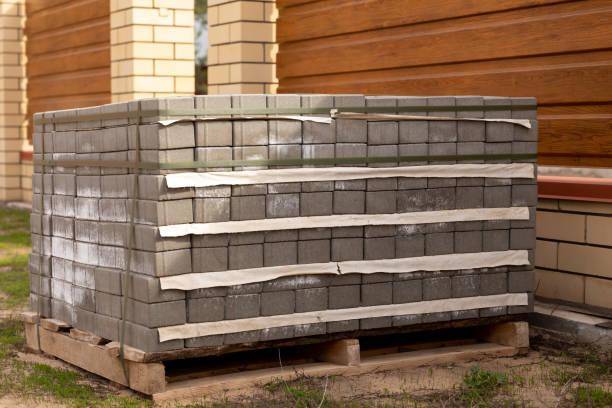Bricks: (118, 319, 184, 351), (121, 297, 185, 328), (122, 273, 185, 303), (127, 248, 192, 277), (139, 122, 194, 150), (132, 225, 190, 251), (139, 174, 193, 201), (139, 149, 194, 175), (140, 96, 195, 122), (187, 297, 226, 323), (99, 199, 139, 224), (195, 121, 233, 147), (99, 221, 132, 250), (224, 294, 260, 319), (100, 175, 139, 198), (231, 195, 266, 220), (231, 95, 267, 119), (192, 248, 228, 272), (335, 119, 368, 145), (196, 148, 233, 171), (233, 122, 268, 146), (195, 95, 231, 118), (265, 194, 301, 217), (229, 245, 265, 268), (269, 121, 303, 145), (264, 242, 298, 266), (233, 146, 268, 169), (302, 121, 337, 144), (299, 239, 331, 264), (262, 291, 295, 315), (296, 288, 329, 312), (163, 199, 194, 224), (195, 199, 230, 221), (329, 285, 361, 309), (302, 144, 335, 167), (95, 269, 122, 296), (95, 292, 121, 320), (99, 246, 128, 271), (426, 187, 456, 211), (269, 147, 303, 168), (267, 95, 301, 116), (301, 192, 332, 215), (334, 191, 365, 214), (336, 143, 367, 166), (331, 238, 363, 260), (72, 307, 97, 335), (425, 232, 454, 256), (302, 96, 335, 117), (451, 275, 481, 298), (399, 144, 429, 167), (362, 283, 393, 305), (366, 190, 397, 212), (367, 145, 398, 167), (367, 123, 398, 145), (137, 201, 164, 226), (364, 238, 396, 259), (398, 189, 427, 212), (483, 96, 512, 119), (427, 96, 457, 118), (398, 122, 429, 143), (74, 197, 100, 222), (73, 263, 97, 290), (51, 278, 74, 306), (423, 277, 451, 300), (75, 130, 103, 153), (396, 235, 425, 257), (428, 121, 457, 143), (484, 142, 513, 164), (455, 97, 485, 118), (397, 96, 427, 117), (51, 216, 75, 242), (51, 257, 74, 284), (73, 286, 96, 313), (100, 152, 127, 175), (455, 231, 483, 253), (394, 281, 422, 303), (483, 186, 511, 208), (456, 187, 484, 209), (429, 143, 457, 165), (74, 241, 98, 266), (102, 103, 128, 126), (457, 121, 486, 141), (52, 237, 75, 262), (75, 220, 100, 243), (510, 207, 536, 229), (511, 96, 537, 118), (508, 292, 535, 313), (481, 274, 508, 295), (457, 143, 485, 163), (104, 128, 128, 151), (512, 185, 537, 207), (509, 271, 535, 292), (76, 108, 102, 129), (487, 122, 515, 141), (76, 153, 100, 175), (366, 97, 397, 114), (76, 177, 101, 198), (52, 300, 73, 325), (97, 316, 118, 341), (224, 329, 259, 344), (260, 326, 295, 341), (509, 250, 534, 271), (483, 231, 509, 251), (512, 142, 538, 162), (191, 233, 228, 247), (52, 194, 74, 217), (514, 120, 538, 141), (512, 164, 537, 184), (185, 335, 223, 348), (52, 175, 75, 196), (53, 154, 76, 175), (53, 132, 76, 153), (335, 96, 365, 112), (295, 275, 329, 289), (511, 229, 536, 248), (31, 274, 50, 297), (460, 266, 508, 275), (262, 278, 295, 291), (55, 111, 76, 131), (193, 186, 231, 197), (327, 320, 359, 333), (364, 225, 396, 238), (366, 178, 398, 191), (230, 232, 264, 244), (264, 230, 298, 242), (295, 323, 326, 336), (227, 283, 263, 294), (393, 314, 423, 327), (360, 317, 392, 329), (299, 228, 331, 240), (332, 226, 364, 238), (187, 288, 225, 298), (396, 224, 426, 236), (329, 274, 361, 285), (335, 180, 367, 191), (422, 269, 461, 278), (232, 185, 267, 195), (302, 182, 335, 192), (398, 178, 428, 189), (361, 273, 393, 283), (267, 184, 302, 193), (452, 309, 480, 320), (455, 221, 483, 232), (424, 311, 451, 322), (428, 178, 457, 188), (127, 126, 139, 150), (128, 100, 140, 124), (28, 253, 41, 275), (392, 271, 422, 280), (30, 233, 42, 255), (128, 151, 139, 174), (426, 223, 454, 232), (457, 177, 485, 186), (480, 308, 507, 317), (483, 221, 510, 230), (40, 296, 51, 318), (30, 214, 41, 235), (42, 174, 53, 194), (32, 133, 43, 153), (42, 133, 53, 153), (485, 178, 512, 186), (40, 256, 51, 275), (32, 194, 42, 214), (42, 195, 52, 215), (42, 236, 52, 256), (32, 174, 42, 193), (43, 155, 53, 174), (44, 113, 54, 132), (42, 216, 51, 236), (31, 294, 40, 314), (33, 154, 43, 172), (33, 114, 43, 132)
